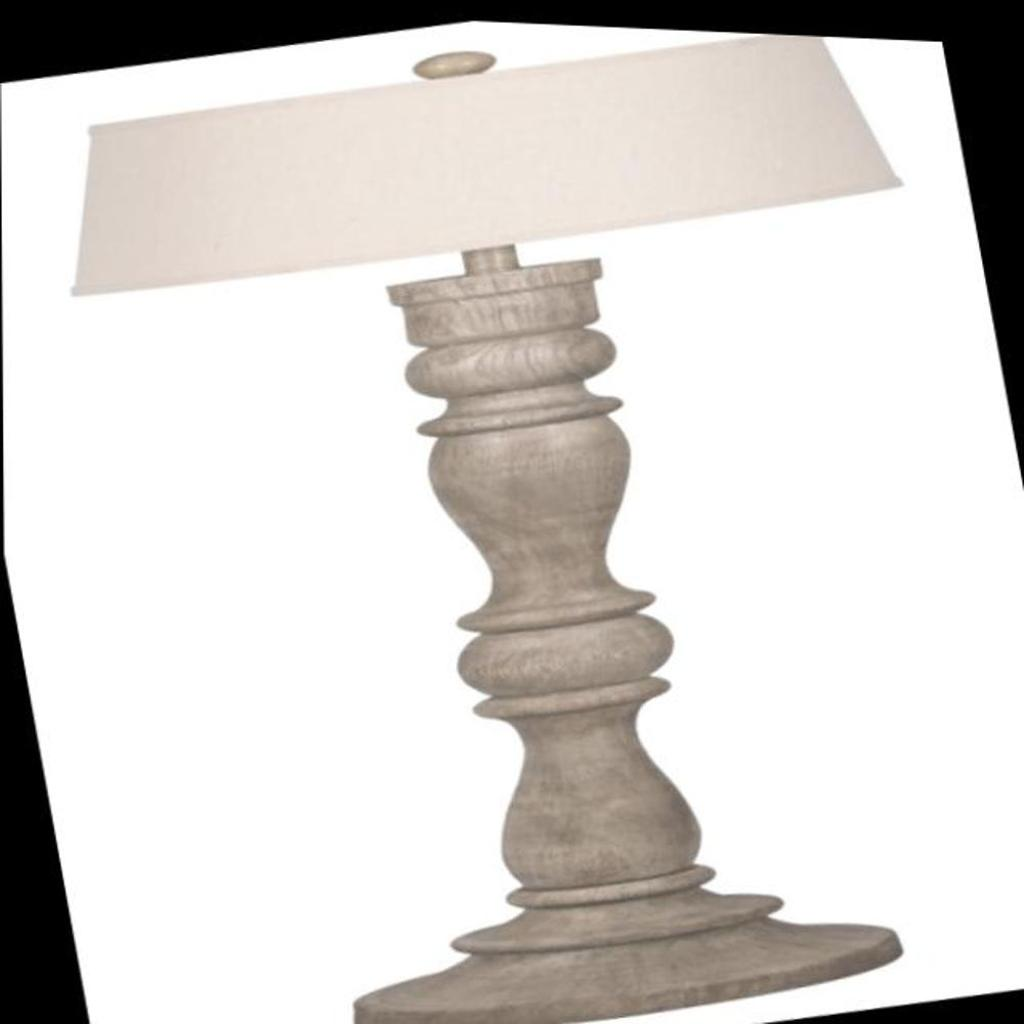shelf: (2, 0, 1024, 1024)
